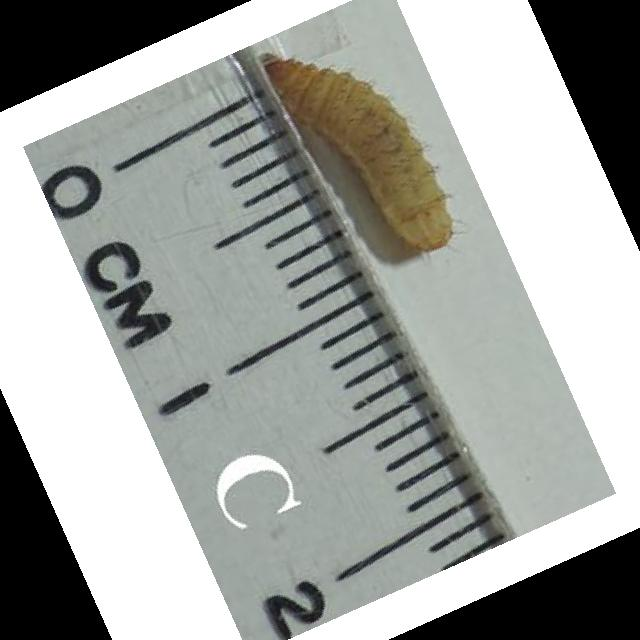Maggot: (259, 51, 456, 254)
